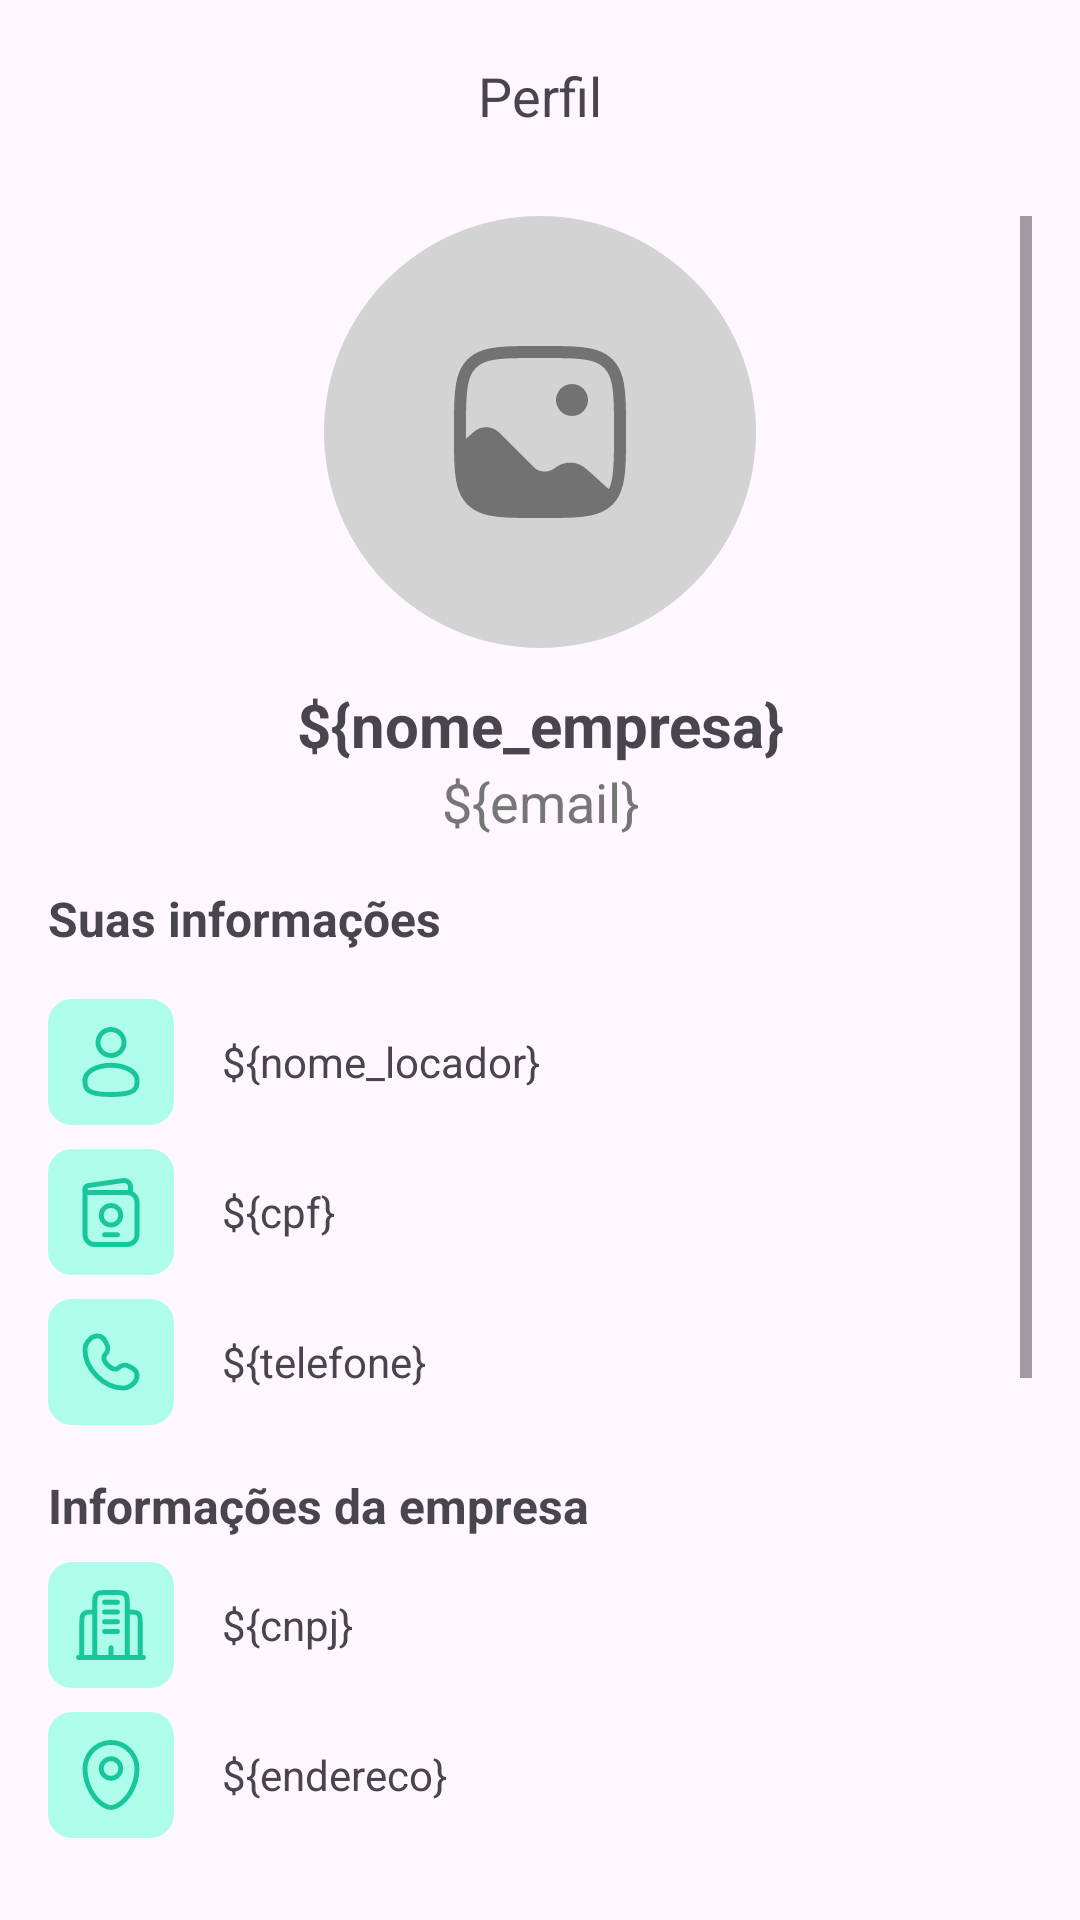

Where icons sit on this 1080px×1920px app screen, as [left=x1, top=y1, right=x2, bottom=y2]:
location point: [left=48, top=1712, right=174, bottom=1838]
person: [left=48, top=999, right=174, bottom=1125]
